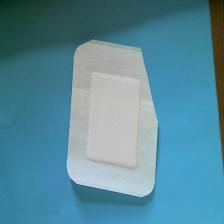Cut: (66, 37, 164, 201)
